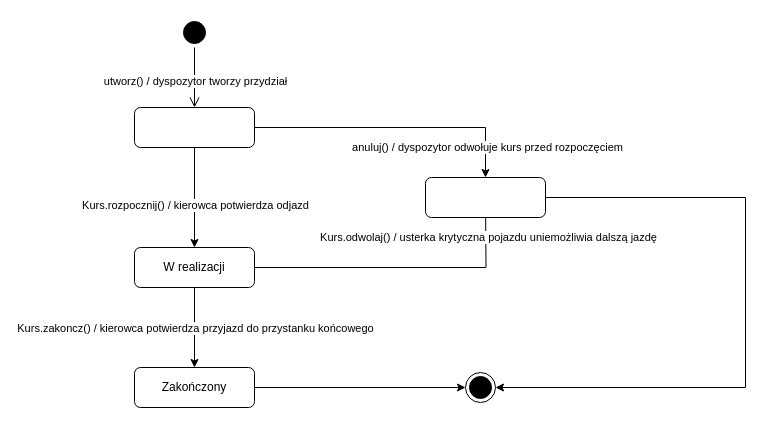
Some shapes in this 771 by 425 pixel diagram are drawn without their labels. Each missing label, with the box of its shape:
Anulowany: (424, 176, 546, 218)
Zaplanowany: (134, 106, 254, 148)
